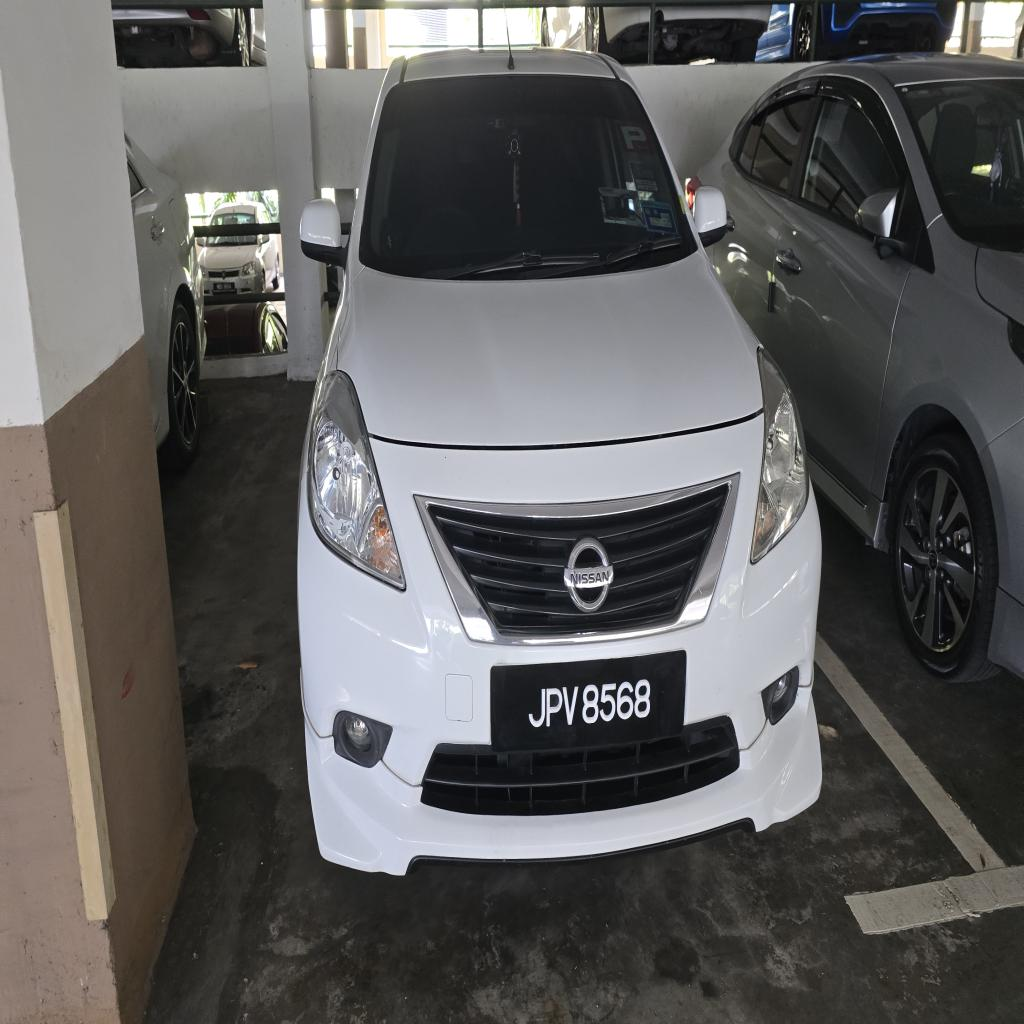car: (298, 50, 820, 873)
car plate: (491, 652, 686, 752)
